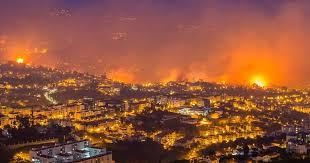fire: (12, 46, 42, 67), (248, 71, 271, 89)
